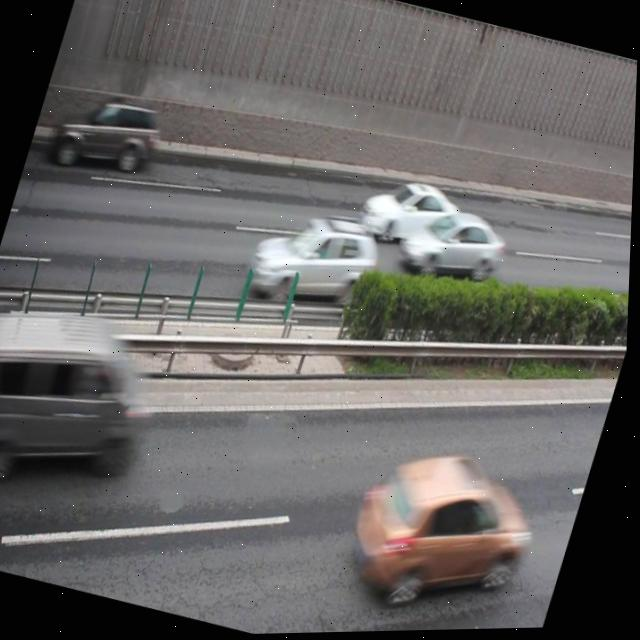car: (334, 430, 545, 633), (242, 198, 389, 324), (57, 83, 171, 187), (394, 196, 514, 293), (353, 167, 467, 260)
truck: (0, 299, 173, 498)
